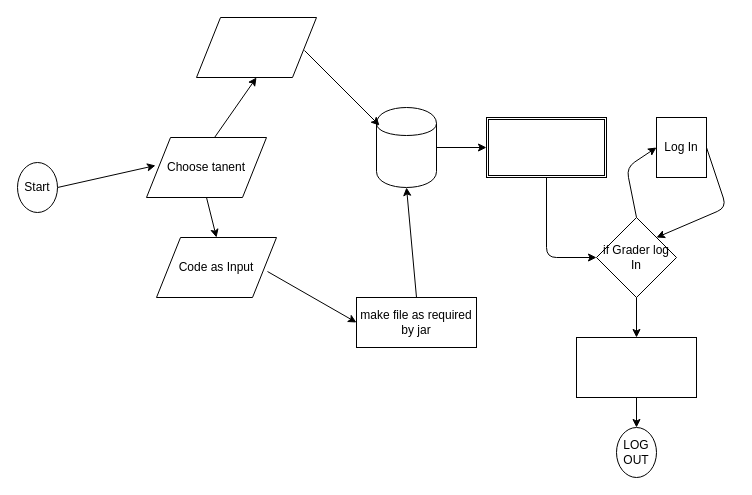
Some shapes in this 752 by 495 pixel diagram are drawn without their labels. Each missing label, with the centre of its shape:
File as Input: [256,47]
get PNG from server to dispay: [546,147]
Grading to tanets: [636,367]
server where jar reside: [406,147]
